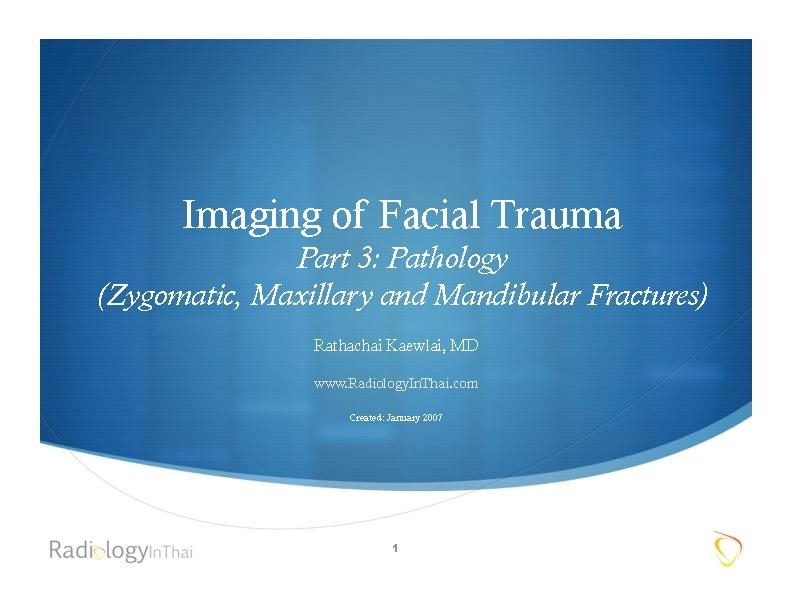title: (77, 173, 719, 325)
